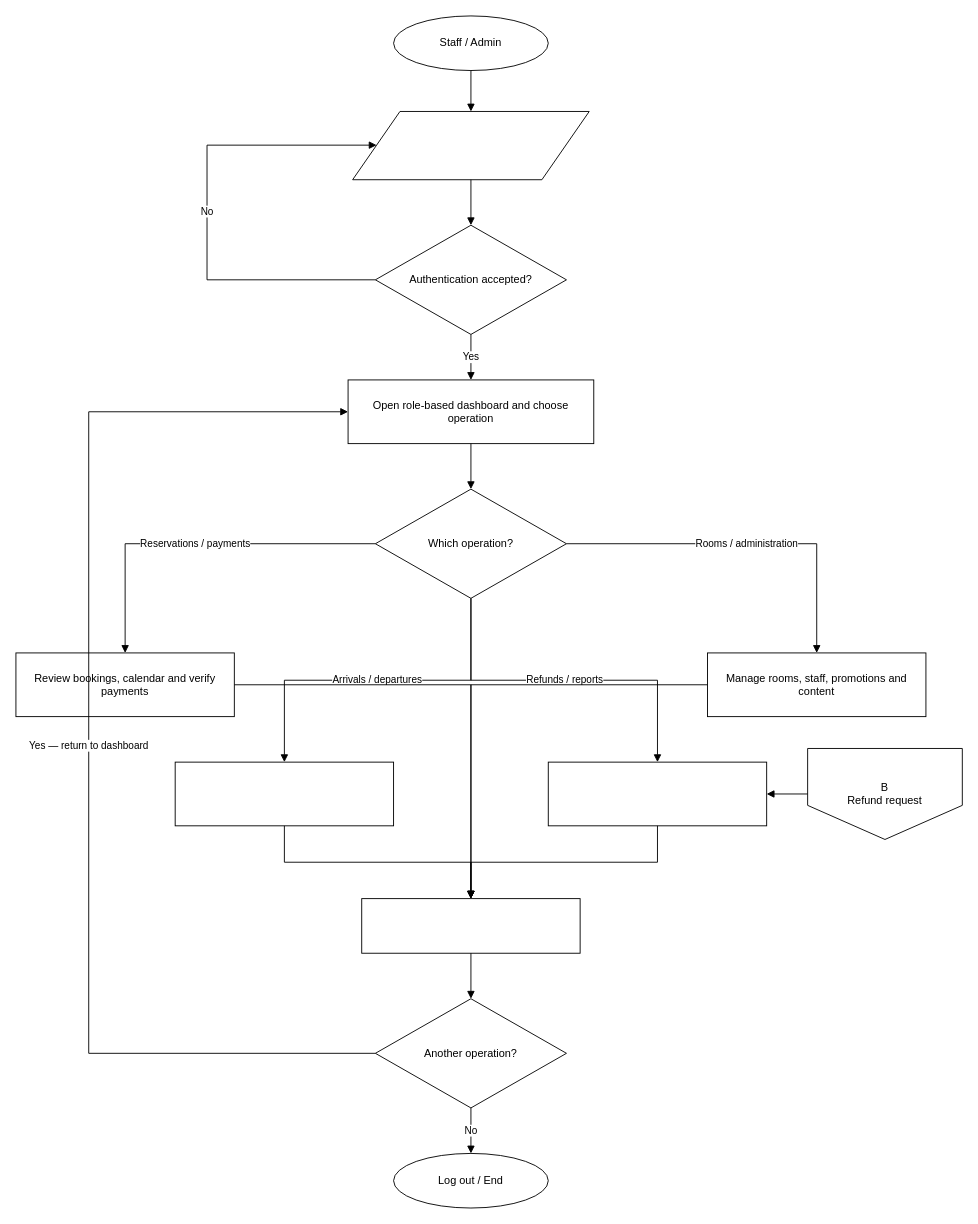
Some shapes in this 978 by 1224 pixel diagram are drawn without their labels. The shapes that lost their labels are listed below. From the top down, each one's box as (x1, y1, x2, y2) in pixels, then its label:
(352, 111, 589, 180): Enter login credentials
(174, 761, 394, 826): Create walk-in or find booking; check in/out
(547, 761, 767, 826): Review refunds, reports, notifications and logs
(361, 898, 580, 953): Complete selected operation
